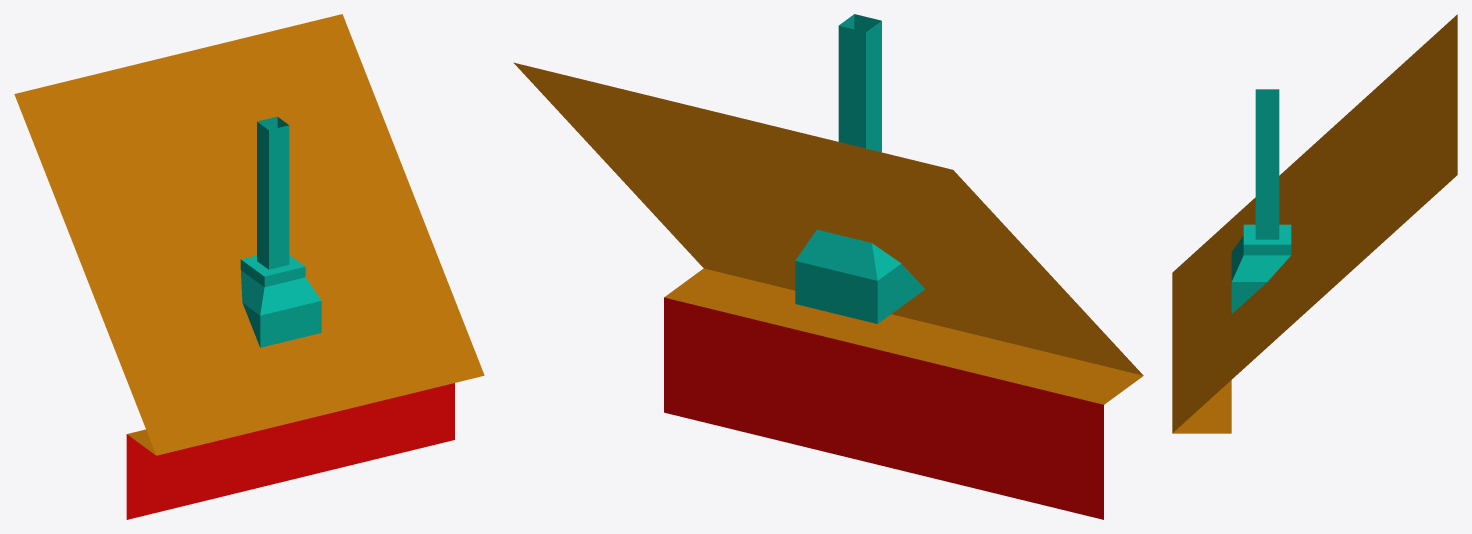
Rendered from None_S_E_E_E_S_E_E_E_BigStrut.fbx.
3 renders of one model, left to right at view 1: azimuth 30°, elevation 25°; view 2: azimuth 150°, elevation 25°; view 3: azimuth 270°, elevation 25°, orthographic. The views are drawn at different scales.
Visible parts, largest first — view 1: None_S_E_E_E_S_E_E_E_BigStrut; view 2: None_S_E_E_E_S_E_E_E_BigStrut; view 3: None_S_E_E_E_S_E_E_E_BigStrut.
Boxes of the visible parts, left/top/right/bottom form: None_S_E_E_E_S_E_E_E_BigStrut: left=14, top=14, right=484, bottom=519; None_S_E_E_E_S_E_E_E_BigStrut: left=513, top=14, right=1143, bottom=519; None_S_E_E_E_S_E_E_E_BigStrut: left=1172, top=14, right=1457, bottom=433.
Bounding box in the file's own units: 100 × 100 × 75.
